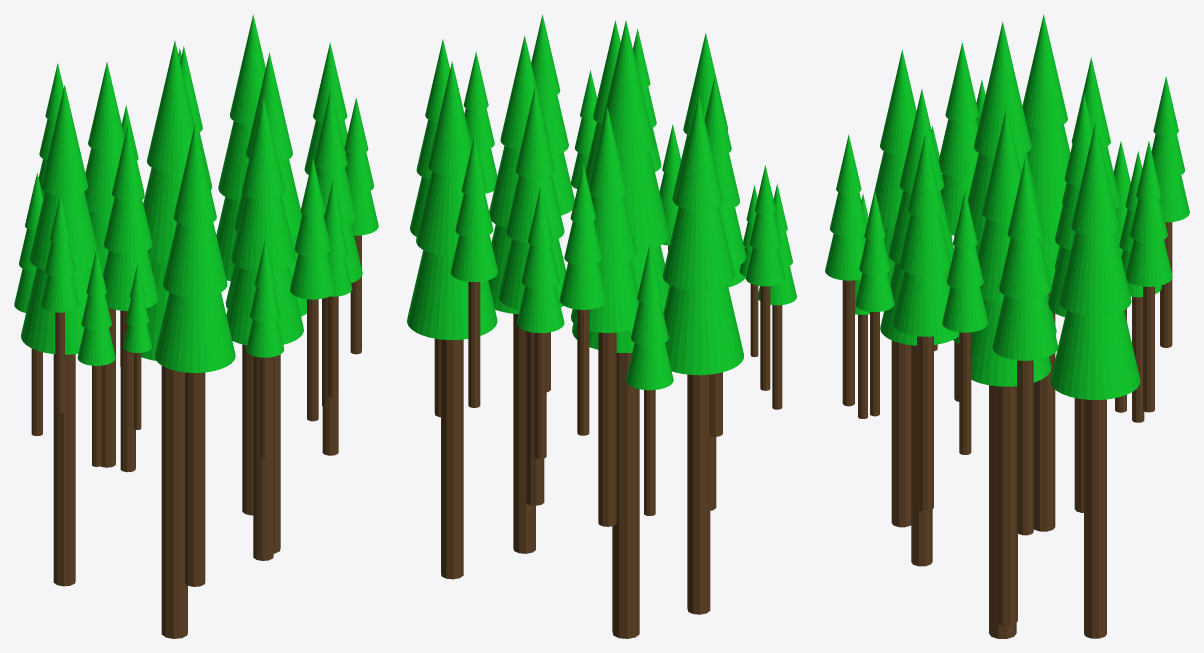
Rendered from Trees.fbx.
The picture shows the model from 3 angles, left to right: view 1: azimuth 30°, elevation 25°; view 2: azimuth 150°, elevation 25°; view 3: azimuth 270°, elevation 25°; orthographic projection. The views are drawn at different scales.
Parts seen in each view (by area): view 1: Trees; view 2: Trees; view 3: Trees.
Part boxes in pixels (bbox=[...]): Trees: bbox=[14, 14, 378, 638]; Trees: bbox=[407, 14, 796, 638]; Trees: bbox=[825, 14, 1189, 638].
Size of the model in its own units: 4245 by 7182 by 3880.
